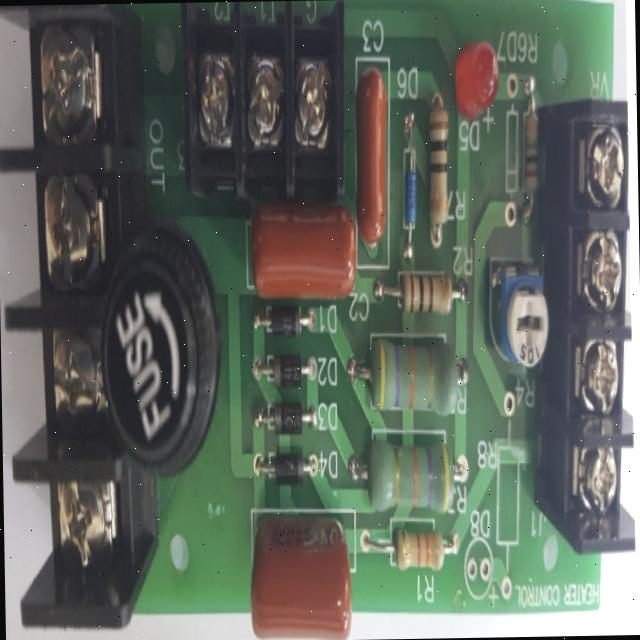diode: (260, 394, 310, 438), (399, 144, 421, 242), (264, 448, 314, 490), (262, 302, 311, 341), (262, 348, 310, 386)
led: (456, 40, 496, 127)
resistor: (366, 323, 462, 428), (362, 444, 454, 520), (396, 262, 456, 326), (426, 106, 454, 234), (521, 82, 547, 202), (392, 526, 448, 578)
